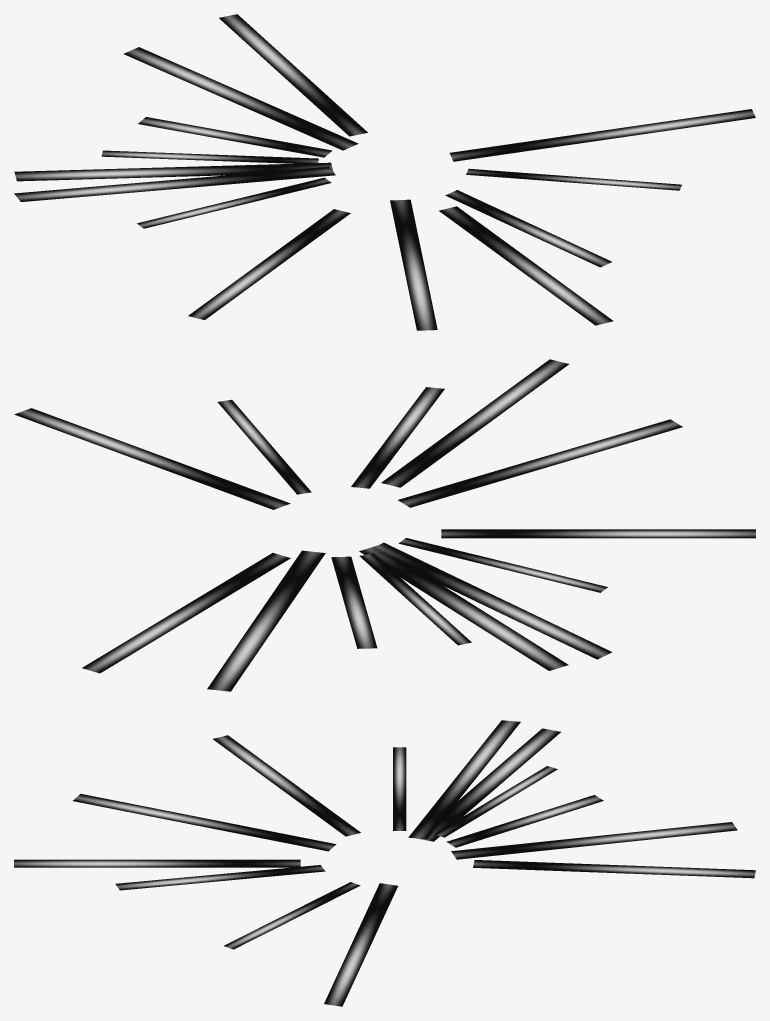
File: vfx_kurp_0699.dae
The picture shows the model from 3 angles, top to bottom: view 1: azimuth 30°, elevation 25°; view 2: azimuth 150°, elevation 25°; view 3: azimuth 270°, elevation 25°; orthographic projection. The views are drawn at different scales.
Parts seen in each view (by area): view 1: vfx_kurp_0699; view 2: vfx_kurp_0699; view 3: vfx_kurp_0699.
Part boxes in pixels (x1,y1,x2,y2): vfx_kurp_0699: [14, 14, 755, 330]; vfx_kurp_0699: [14, 359, 755, 691]; vfx_kurp_0699: [14, 720, 755, 1006].
Size of the model in its own units: 13.6 by 14.89 by 0.194.
1 material, 1 textured.
